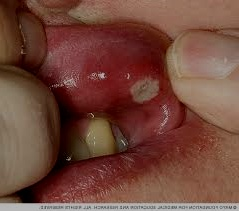Ulcer: (131, 77, 162, 103)
